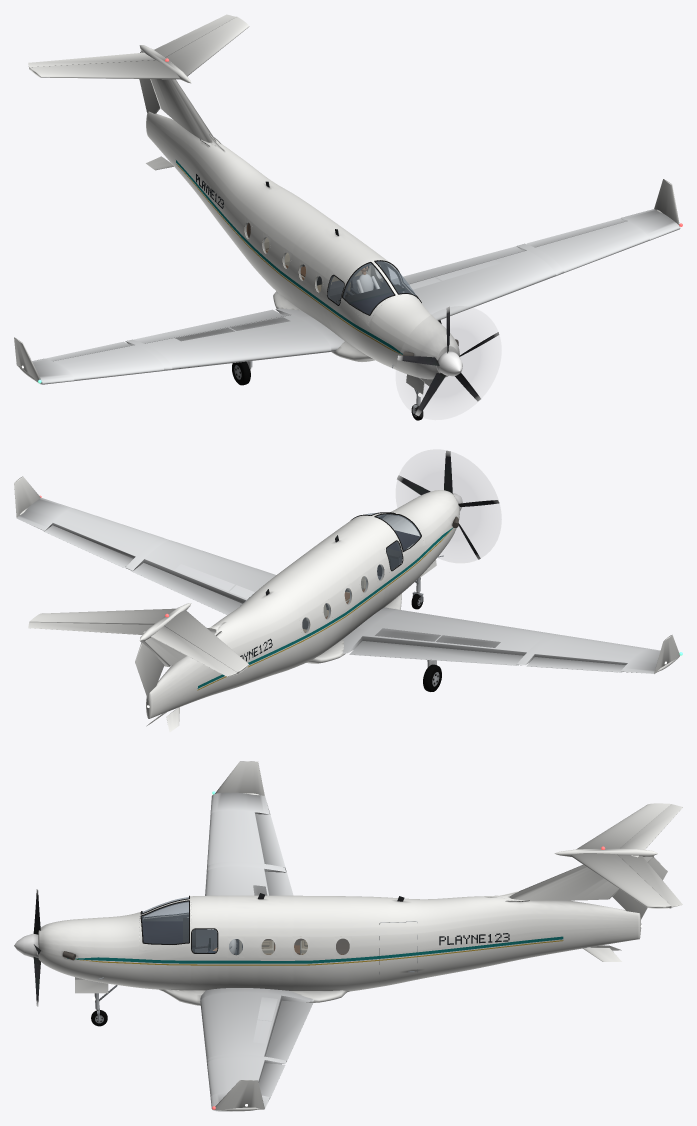
The picture shows the model from 3 angles, top to bottom: view 1: azimuth 30°, elevation 25°; view 2: azimuth 150°, elevation 25°; view 3: azimuth 270°, elevation 25°; orthographic projection.
Visible parts, largest first — view 1: body, propDisc, canopy, prop, flapR, flapL, elevR, elevL, spoilerR; view 2: body, propDisc, flapR, flapL, canopy, elevR, elevL, ailL, spoilerR, rudder, ailR, prop (+1 smaller); view 3: body, canopy, flapL, elevR, elevL, ailR, spoilerL, rudder, ailL, flapR.
Part boxes in pixels (<box>): body: <box>14,16,682,384</box>; propDisc: <box>396,306,500,419</box>; canopy: <box>245,222,415,314</box>; prop: <box>397,306,499,416</box>; flapR: <box>133,309,283,343</box>; flapL: <box>391,246,522,284</box>; elevR: <box>28,52,154,68</box>; elevL: <box>154,14,235,57</box>; spoilerR: <box>175,317,290,341</box>; body: <box>14,476,682,732</box>; propDisc: <box>396,450,500,562</box>; flapR: <box>349,641,523,665</box>; flapL: <box>131,563,242,615</box>; canopy: <box>302,512,420,632</box>; elevR: <box>143,626,237,676</box>; elevL: <box>28,622,153,634</box>; ailL: <box>43,525,132,567</box>; spoilerR: <box>375,628,500,647</box>; rudder: <box>135,642,164,700</box>; ailR: <box>526,657,625,672</box>; prop: <box>397,450,499,559</box>; body: <box>14,761,671,1111</box>; canopy: <box>142,897,349,954</box>; flapL: <box>265,1000,313,1061</box>; elevR: <box>620,804,682,857</box>; elevL: <box>619,855,682,907</box>; ailR: <box>255,814,285,867</box>; spoilerL: <box>253,997,277,1043</box>; rudder: <box>612,857,667,919</box>; ailL: <box>259,1063,285,1098</box>; flapR: <box>265,871,293,895</box>.
Size of the model in its own units: 16.28 by 4.26 by 14.4.
